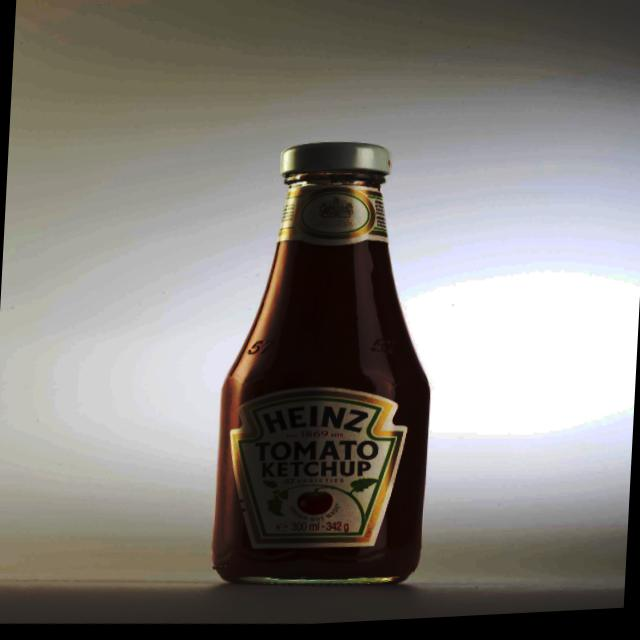ketchup: (204, 125, 446, 598)
